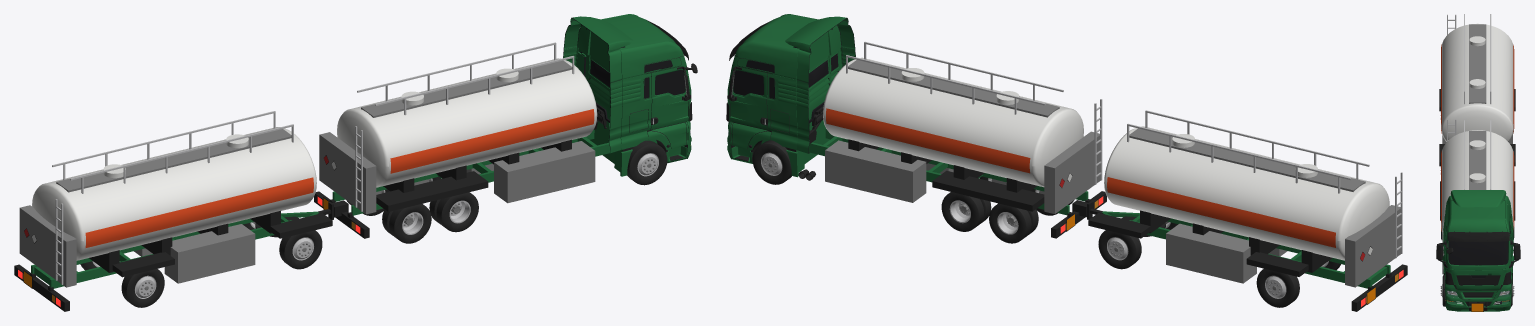
The model's file is tanker.glb.
3 views of the same model, side by side, from view 1: azimuth 30°, elevation 25°; view 2: azimuth 150°, elevation 25°; view 3: azimuth 270°, elevation 25° (orthographic). The views are drawn at different scales.
Visible parts, largest first — view 1: body, trailer_body, wheel_RR2, wheel_RR, wheel_FR, trailer_wheel_R1, trailer_wheel_R2; view 2: body, trailer_body, wheel_RL2, wheel_RL, wheel_FL, trailer_wheel_L2, trailer_wheel_L1; view 3: body, trailer_body, wheel_FR.
Part boxes in pixels (x1,y1,x2,y2): body: [314, 14, 697, 238]; trailer_body: [14, 111, 332, 311]; wheel_RR2: [382, 204, 431, 243]; wheel_RR: [429, 192, 478, 232]; wheel_FR: [627, 140, 667, 185]; trailer_wheel_R1: [279, 230, 322, 269]; trailer_wheel_R2: [121, 268, 164, 307]; body: [726, 14, 1106, 238]; trailer_body: [1088, 110, 1407, 311]; wheel_RL2: [989, 203, 1038, 243]; wheel_RL: [941, 192, 991, 231]; wheel_FL: [752, 140, 791, 184]; trailer_wheel_L2: [1256, 268, 1299, 307]; trailer_wheel_L1: [1098, 230, 1141, 269]; body: [1436, 119, 1520, 311]; trailer_body: [1439, 14, 1515, 166]; wheel_FR: [1440, 275, 1445, 306].
Bounding box in the file's own units: 18.25 × 3.95 × 2.92.
